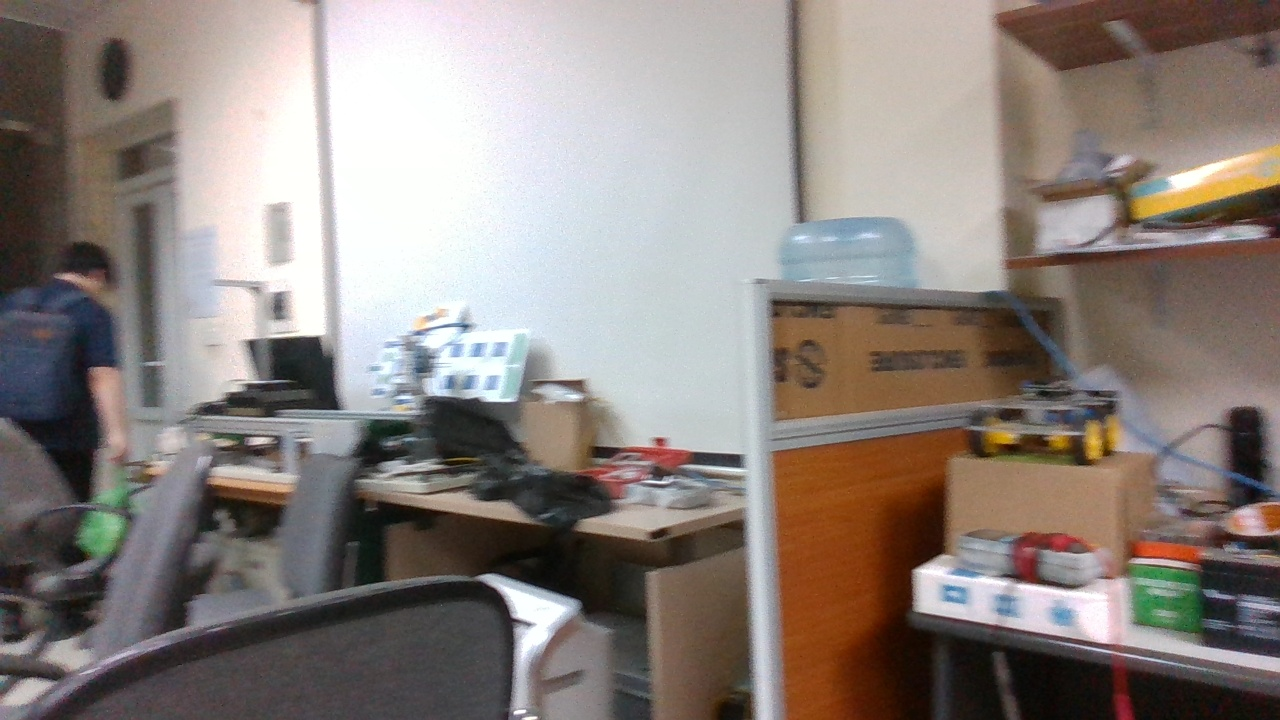person: (4, 244, 132, 486)
